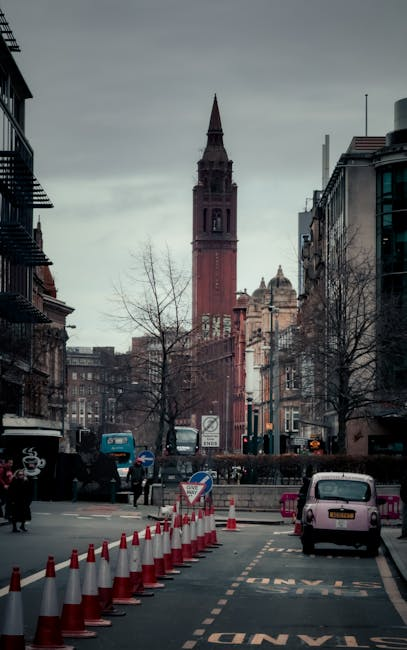traffic_cone: (26, 555, 75, 650), (59, 548, 97, 639), (81, 543, 112, 627), (96, 540, 126, 617), (111, 532, 142, 605), (0, 566, 26, 650), (129, 530, 154, 597), (140, 525, 165, 589), (152, 522, 174, 580), (160, 519, 181, 575), (181, 513, 199, 562), (221, 497, 240, 532), (288, 519, 302, 536)
